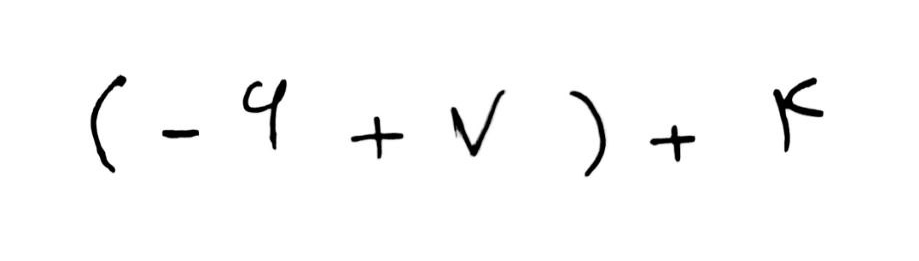character: (773, 77, 826, 152), (448, 88, 505, 157), (88, 74, 127, 173), (566, 89, 608, 178), (241, 78, 285, 150), (351, 115, 403, 159), (650, 123, 698, 164), (159, 127, 200, 142)
